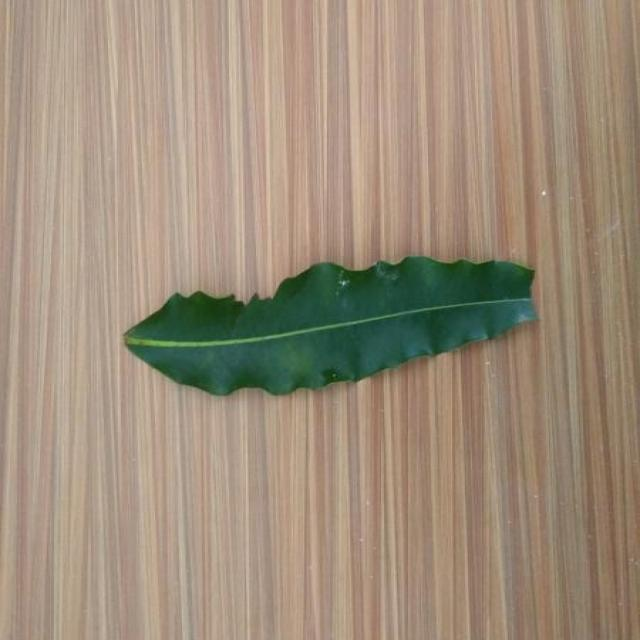ashoka: (127, 256, 537, 394)
defectedashoka: (238, 256, 533, 324)
